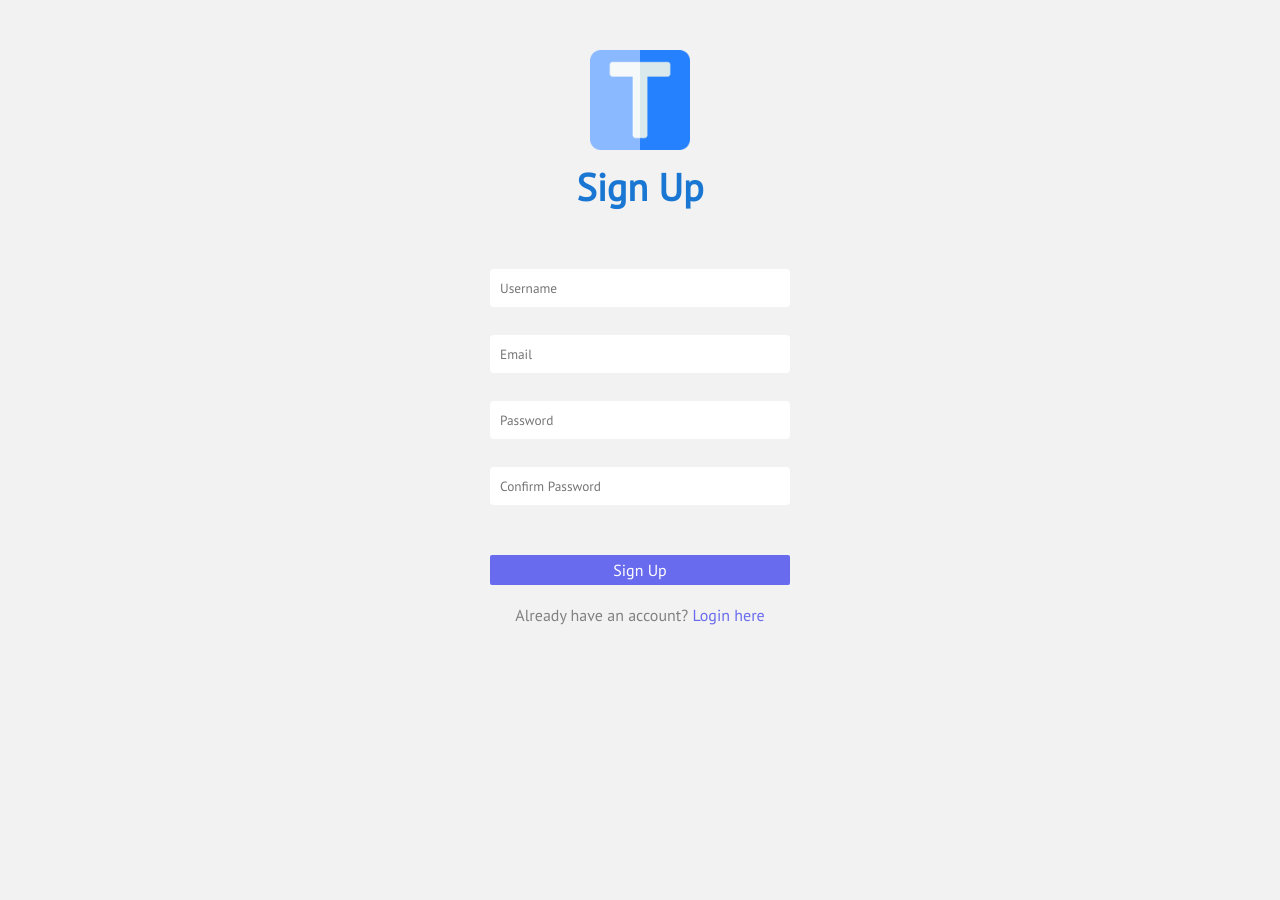
signup tests › Shows errors when passwords do not match
The width and height of the screenshot is (1280, 900).
Type "jonathan" into the field with placeholder "Username". click: x=640, y=288
box: x1=490 y1=269 x2=790 y2=307
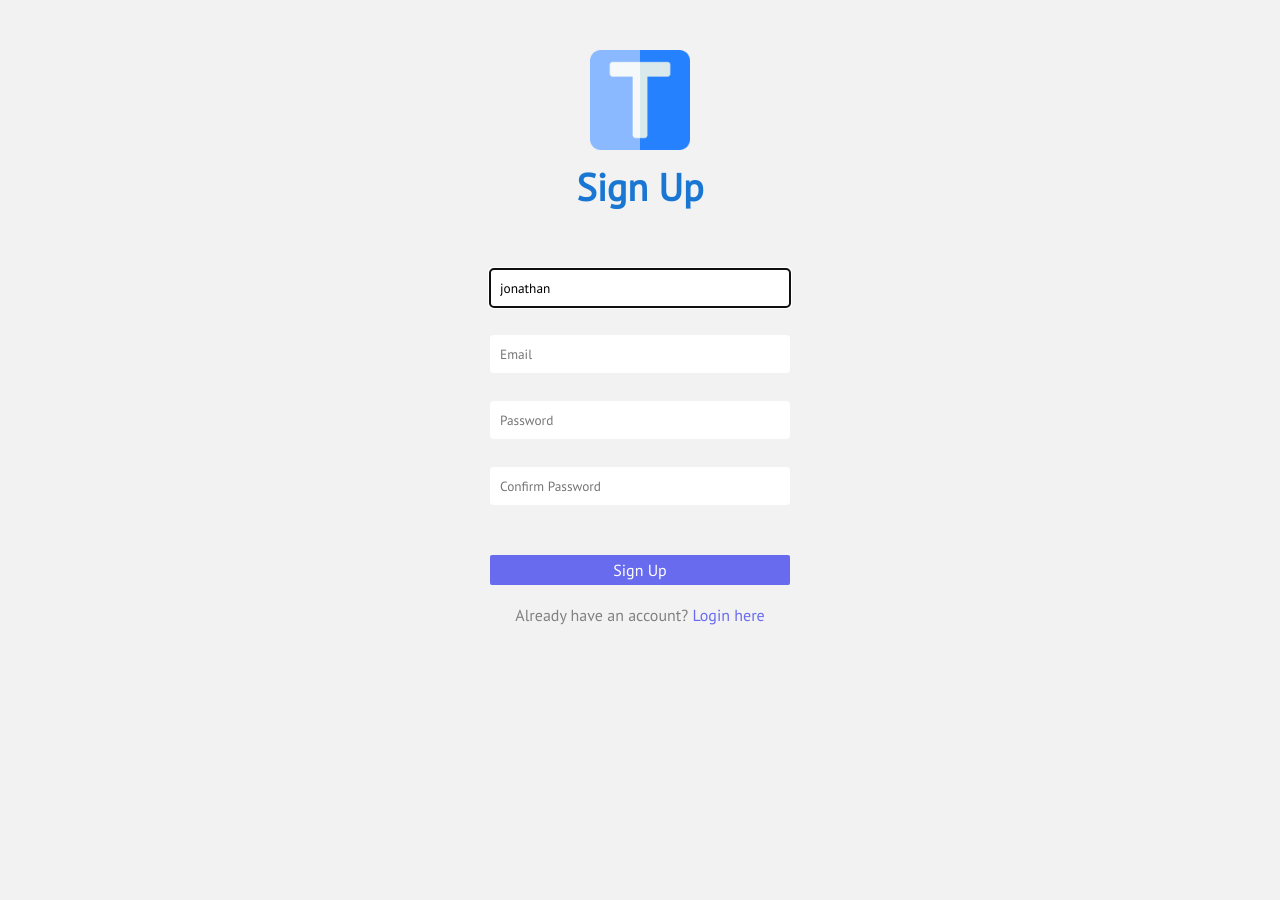
Type "jonathan@gmail.com" into the field with placeholder "Email". click: x=640, y=354
box: x1=490 y1=335 x2=790 y2=373
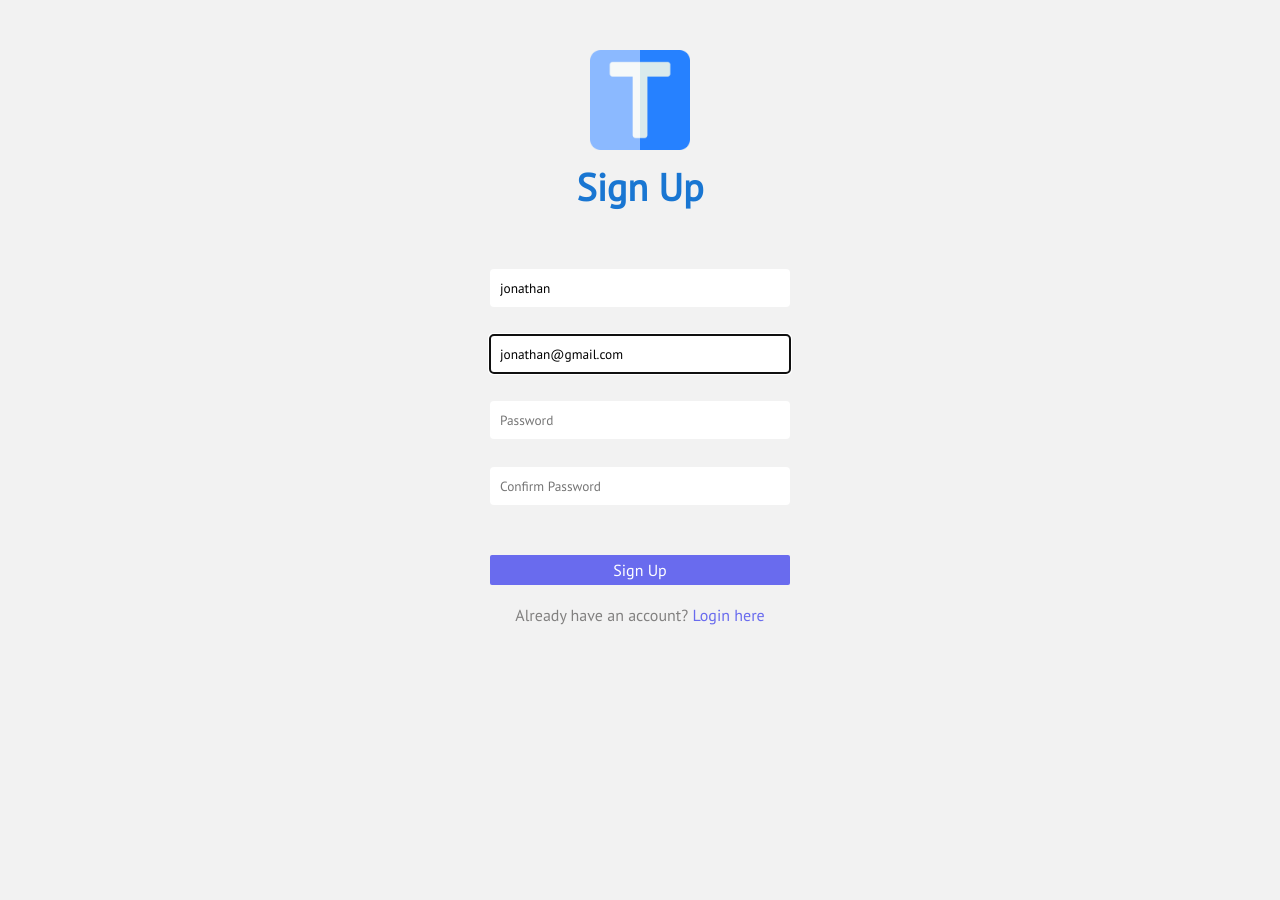
Type "password" into the password field with placeholder "Password". click: x=640, y=420
box: x1=490 y1=401 x2=790 y2=439
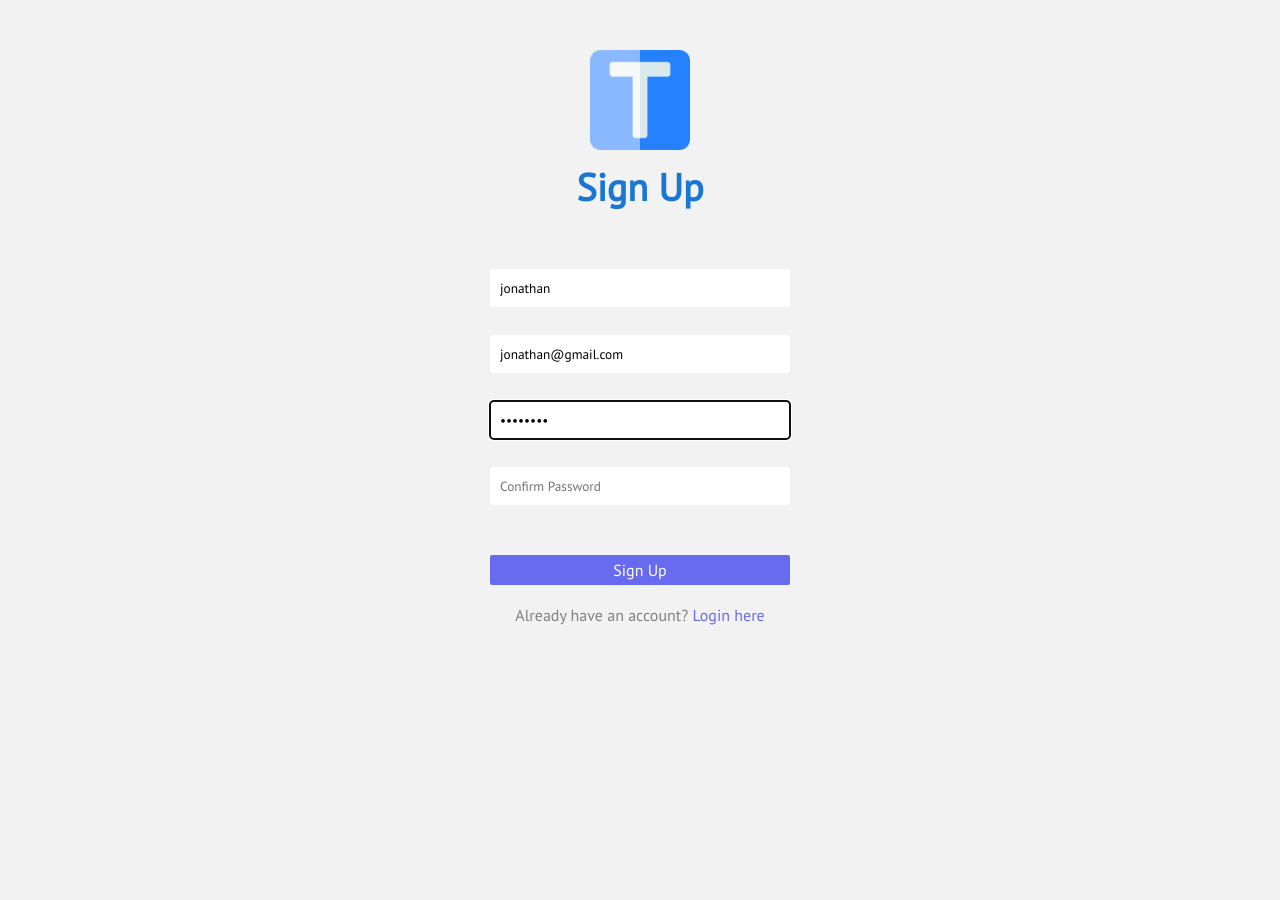
Type "password" into the password field with placeholder "Confirm Password". click: x=640, y=486
box: x1=490 y1=467 x2=790 y2=505
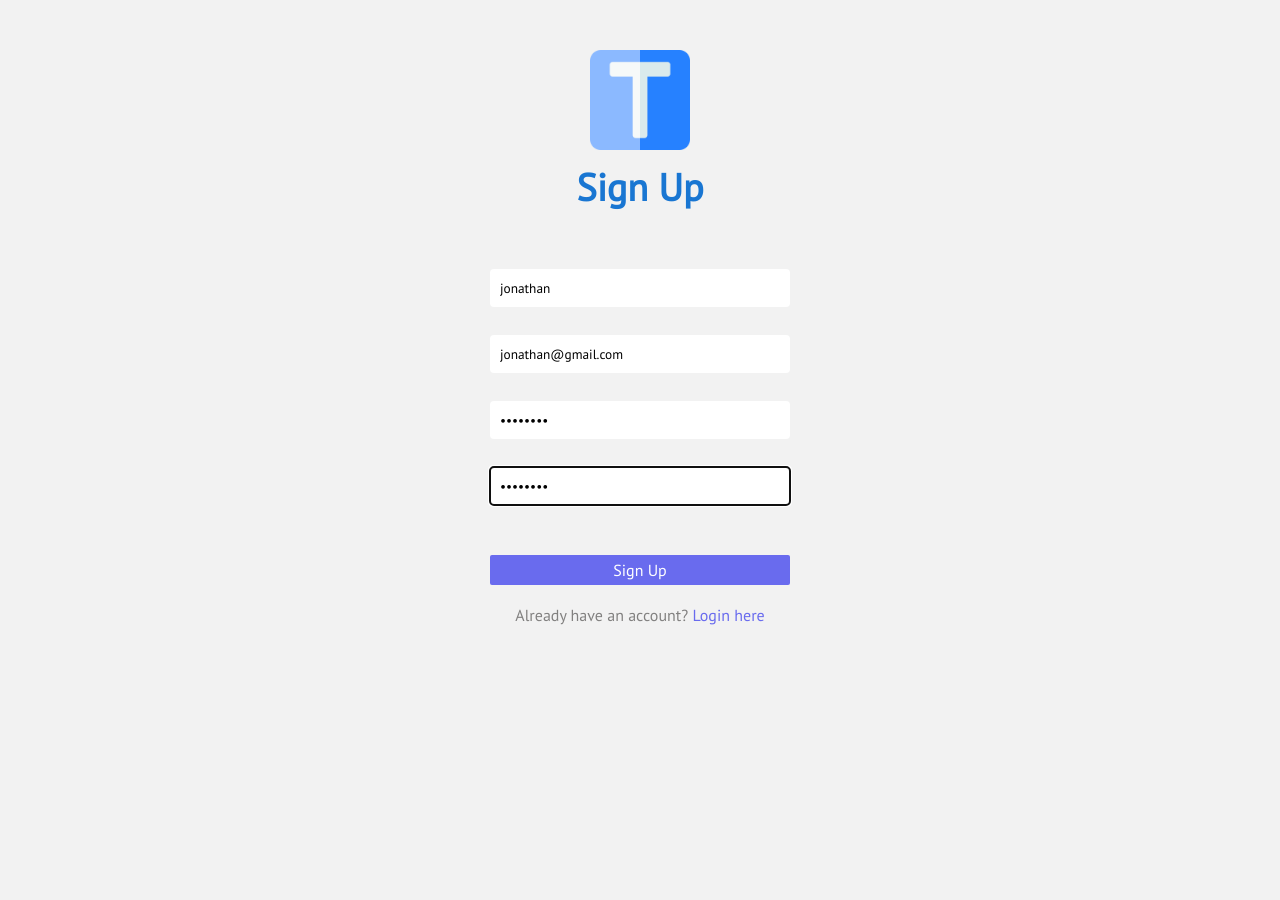
Type "some password" into the 1st password field with placeholder "Password". click: x=640, y=420
box: x1=490 y1=401 x2=790 y2=439
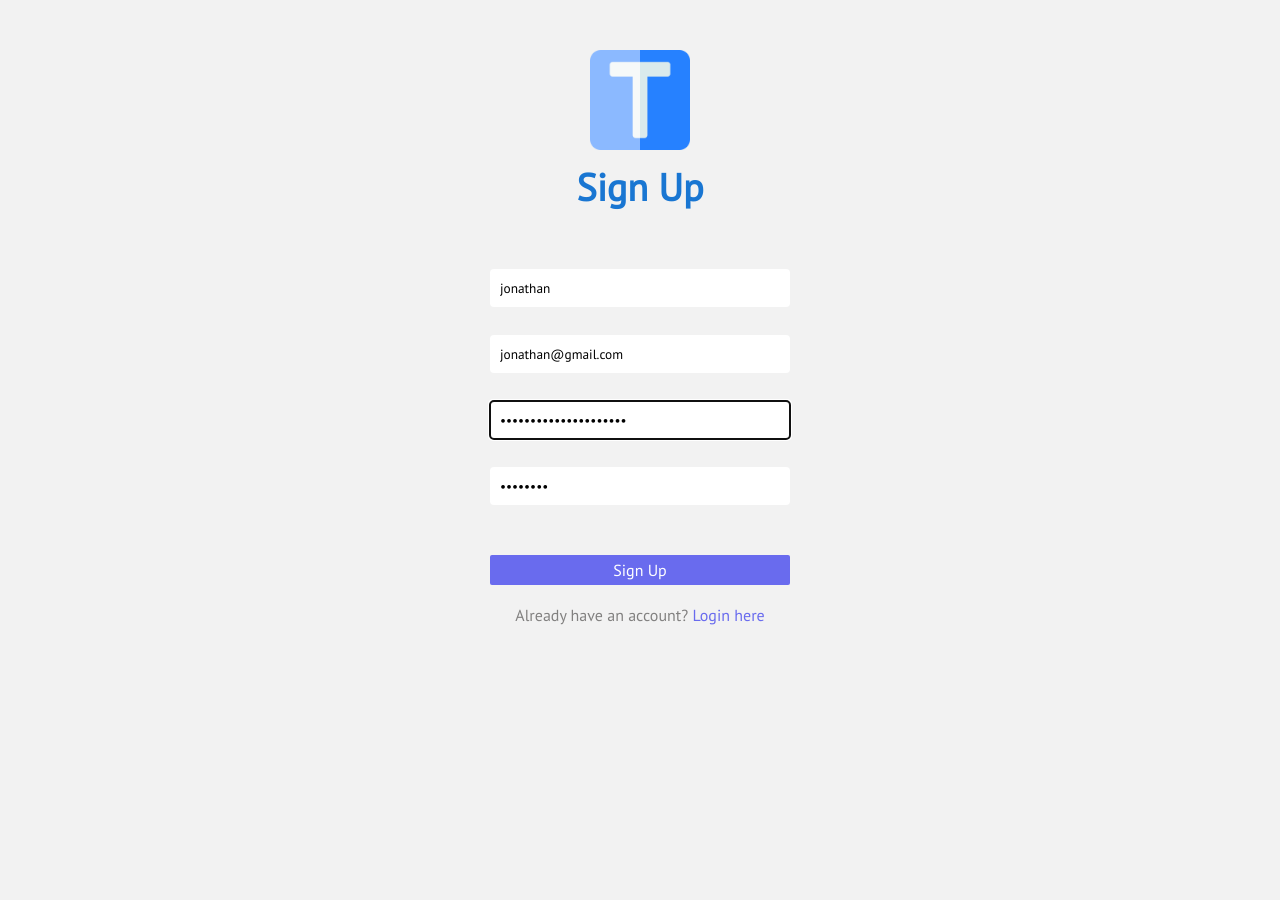
Click the button. click: x=640, y=570
box: x1=490 y1=555 x2=790 y2=585
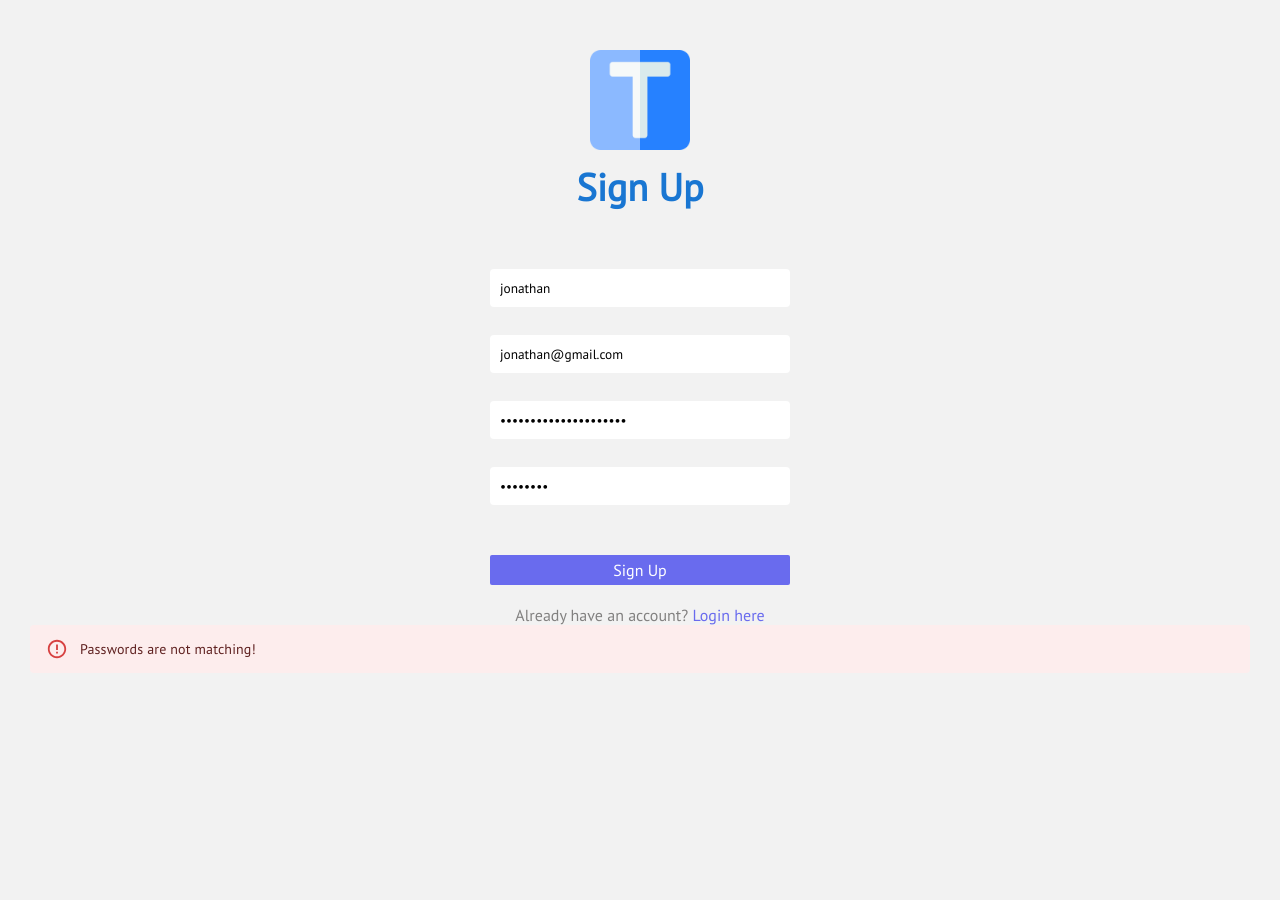
expect the message "Passwords are not matching!" is shown: met, box x1=30 y1=625 x2=1250 y2=673
expect the message with test id "alert-element" reads "Passwords are not matching!": met, box x1=80 y1=640 x2=256 y2=658
